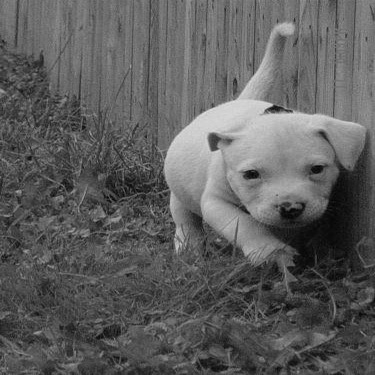dog: (159, 21, 368, 278)
